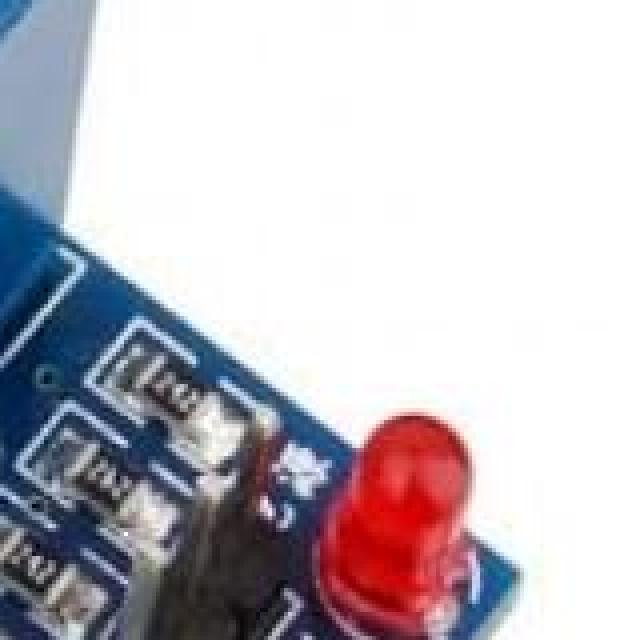LED: (320, 400, 492, 640)
connector: (64, 380, 284, 640)
relay: (0, 0, 108, 496)
resistor: (112, 328, 256, 434), (52, 436, 168, 530), (0, 508, 92, 604)
transistor: (0, 588, 32, 640)
